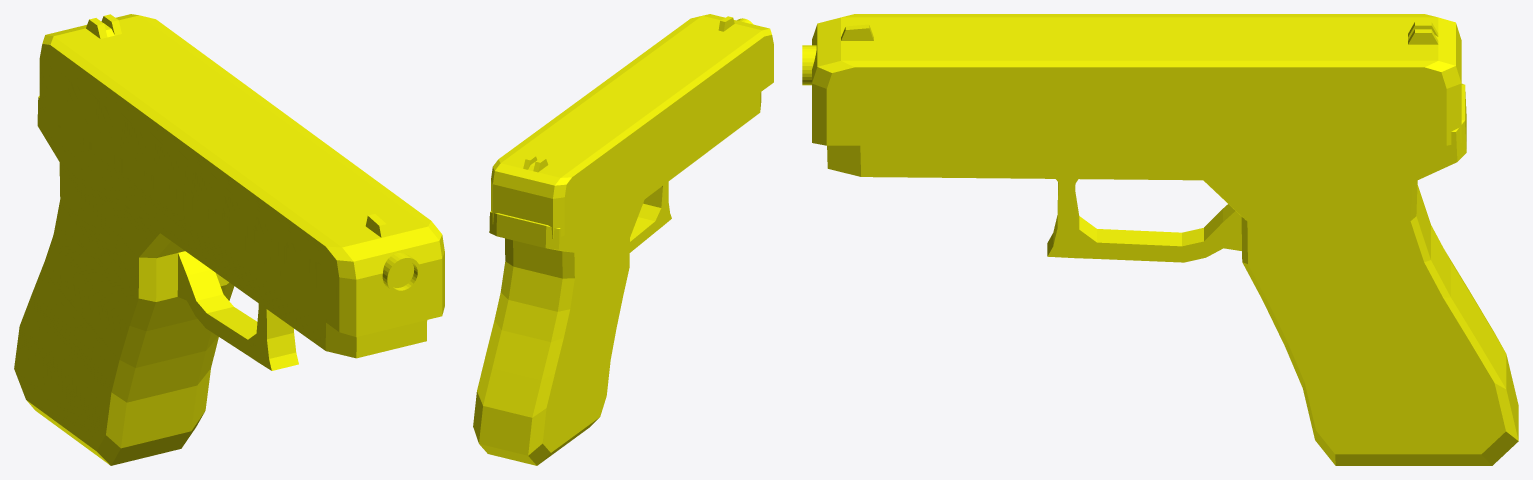
File: scene_1aaWXk1MEW.glb
The picture shows the model from 3 angles, left to right: view 1: azimuth 30°, elevation 25°; view 2: azimuth 150°, elevation 25°; view 3: azimuth 270°, elevation 25°; orthographic projection. The views are drawn at different scales.
Parts seen in each view (by area): view 1: Cube; view 2: Cube; view 3: Cube.
Part boxes in pixels (x1,y1,x2,y2): Cube: [14, 14, 444, 465]; Cube: [473, 14, 773, 465]; Cube: [802, 14, 1518, 465].
Size of the model in its own units: 0.7027 by 2.59 by 3.99.
Materials: 2 (2 with a texture image).
